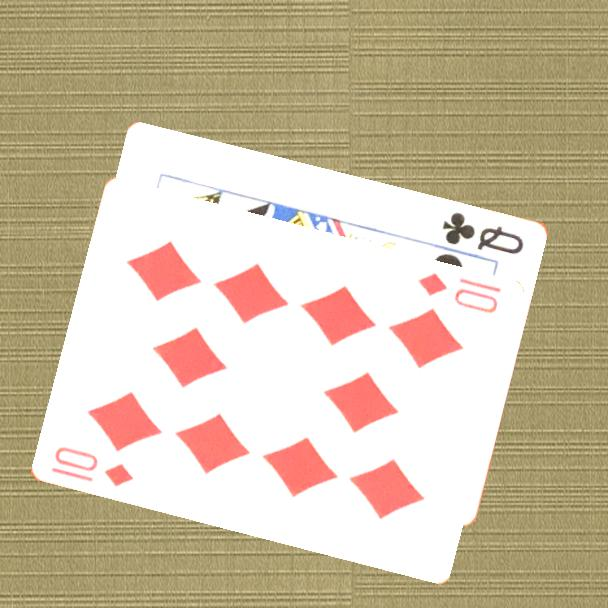c12: (439, 208, 527, 257)
d10: (413, 269, 504, 317), (50, 443, 136, 490)
